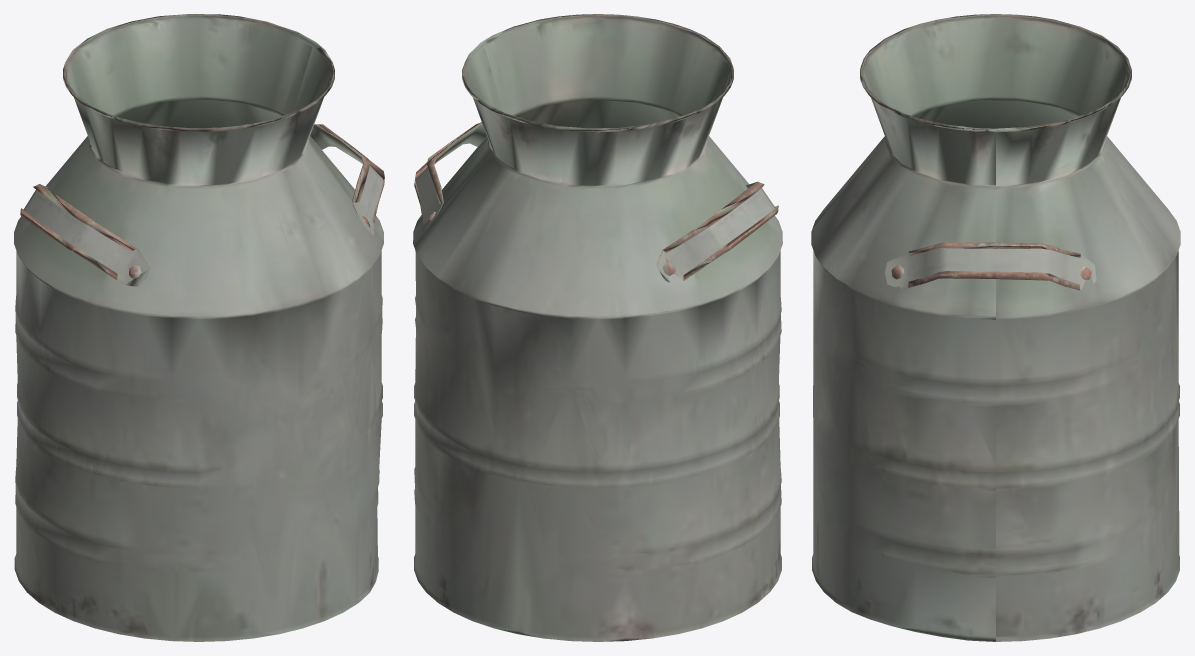
The model's file is metal-jug.glb.
3 renders of one model, left to right at view 1: azimuth 30°, elevation 25°; view 2: azimuth 150°, elevation 25°; view 3: azimuth 270°, elevation 25°, orthographic.
Parts seen in each view (by area): view 1: metal_jug; view 2: metal_jug; view 3: metal_jug.
Boxes of the visible parts, bbox=[...] form: metal_jug: bbox=[14, 14, 384, 641]; metal_jug: bbox=[413, 14, 782, 641]; metal_jug: bbox=[811, 14, 1180, 641].
Size of the model in its own units: 0.1967 by 0.2874 by 0.1955.
Materials: 1 (1 with a texture image).
